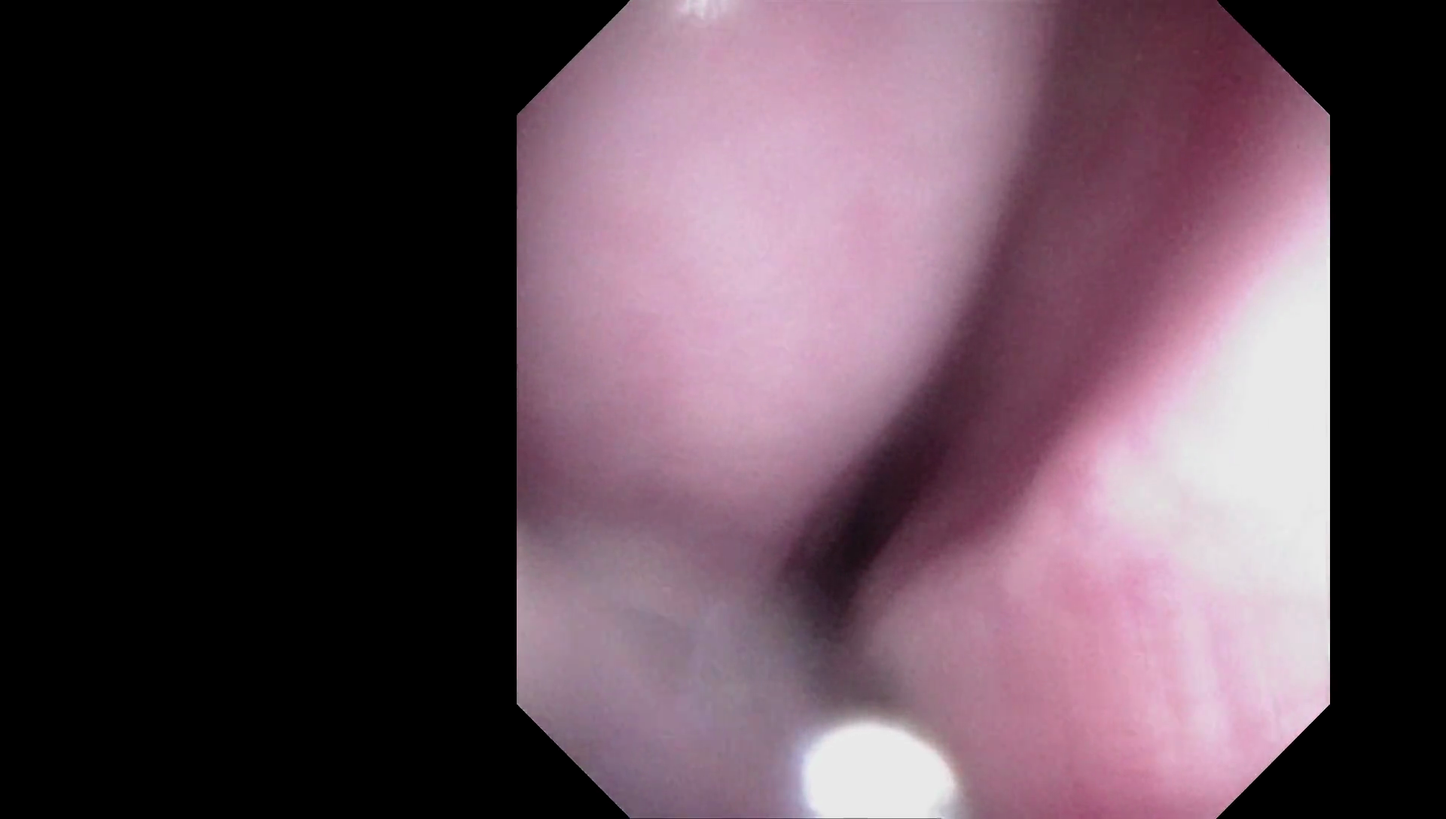close_wall: (1026, 124, 1324, 698)
next: (754, 370, 983, 671)
